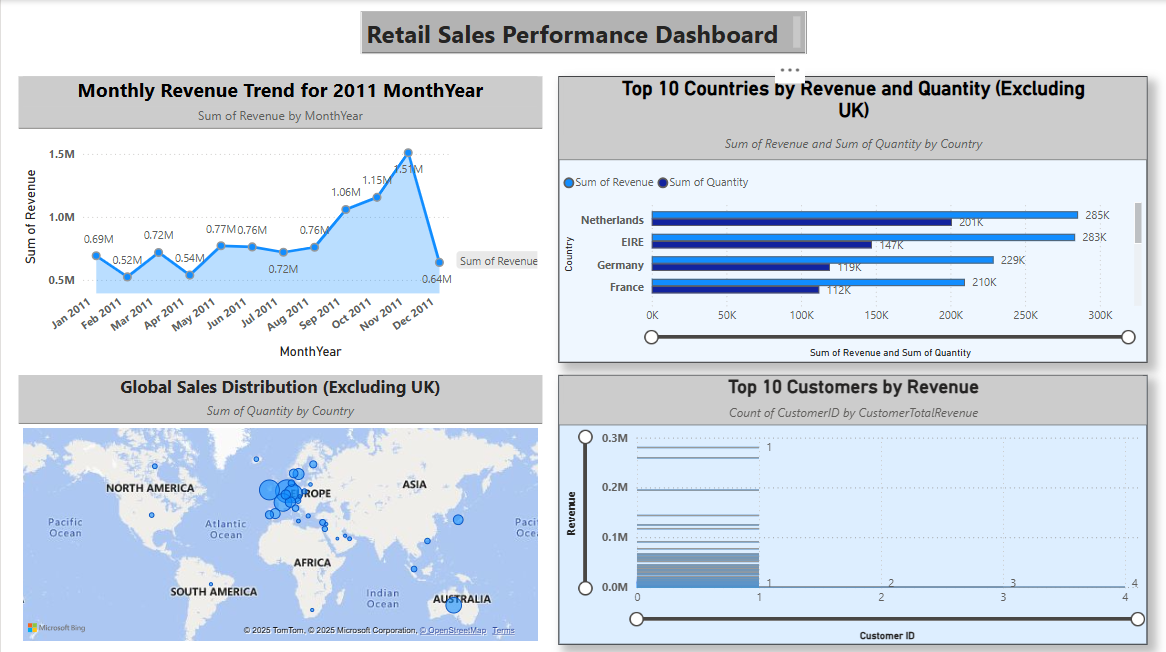

The dashboard page shown, as its layout file describes it:
{"tool":"powerbi","page":{"name":"Dashboard","canvas":[1280,720],"ordinal":4},"visuals":[{"type":"lineChart","title":"Monthly Revenue Trend for 2011 MonthYear","fields":{"Y":["Sum(Online Retail Data Set.Revenue)"],"Category":["Online Retail Data Set.MonthYear"]},"box":[19.2,83.7,575,314.2],"z":0},{"type":"clusteredBarChart","title":"Top 10 Countries by Revenue and Quantity (Excluding UK)","fields":{"Category":["Online Retail Data Set.Country"],"Y":["Sum(Online Retail Data Set.Revenue)","Sum(Online Retail Data Set.Quantity)"]},"box":[612,83.7,646.3,314.2],"z":1000},{"type":"map","title":"Global Sales Distribution (Excluding UK)","fields":{"Category":["Online Retail Data Set.Country"],"Size":["Sum(Online Retail Data Set.Quantity)"]},"box":[19.2,411.7,575,296.4],"z":2000},{"type":"clusteredBarChart","title":"Top 10 Customers by Revenue","fields":{"Category":["CustomerRevenue.CustomerTotalRevenue"],"Y":["CountNonNull(CustomerRevenue.CustomerID)"]},"box":[612,411.7,646.3,296.4],"z":3000},{"type":"textbox","box":[395.2,12.3,488.5,46.7],"z":4000}]}

Visuals, with their boxes in screenshot pixels (x1, y1, x2, y2), scaled from the page's 1280x720 canvas onto the 1166x652 screenshot:
"Monthly Revenue Trend for 2011 MonthYear" lineChart: (17,76,541,360)
"Top 10 Countries by Revenue and Quantity (Excluding UK)" clusteredBarChart: (557,76,1146,360)
"Global Sales Distribution (Excluding UK)" map: (17,373,541,641)
"Top 10 Customers by Revenue" clusteredBarChart: (557,373,1146,641)
textbox: (360,11,805,53)
